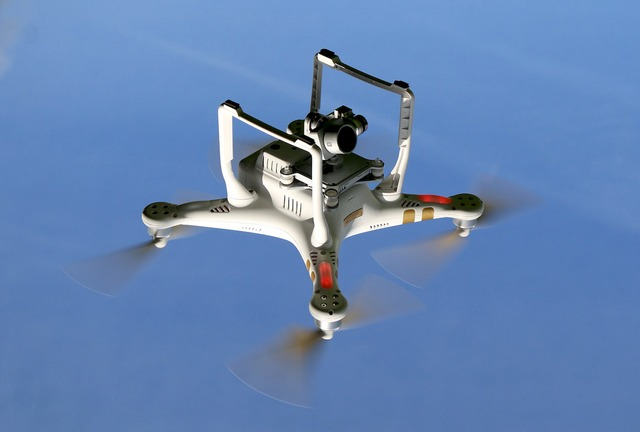drone: (141, 51, 500, 357)
